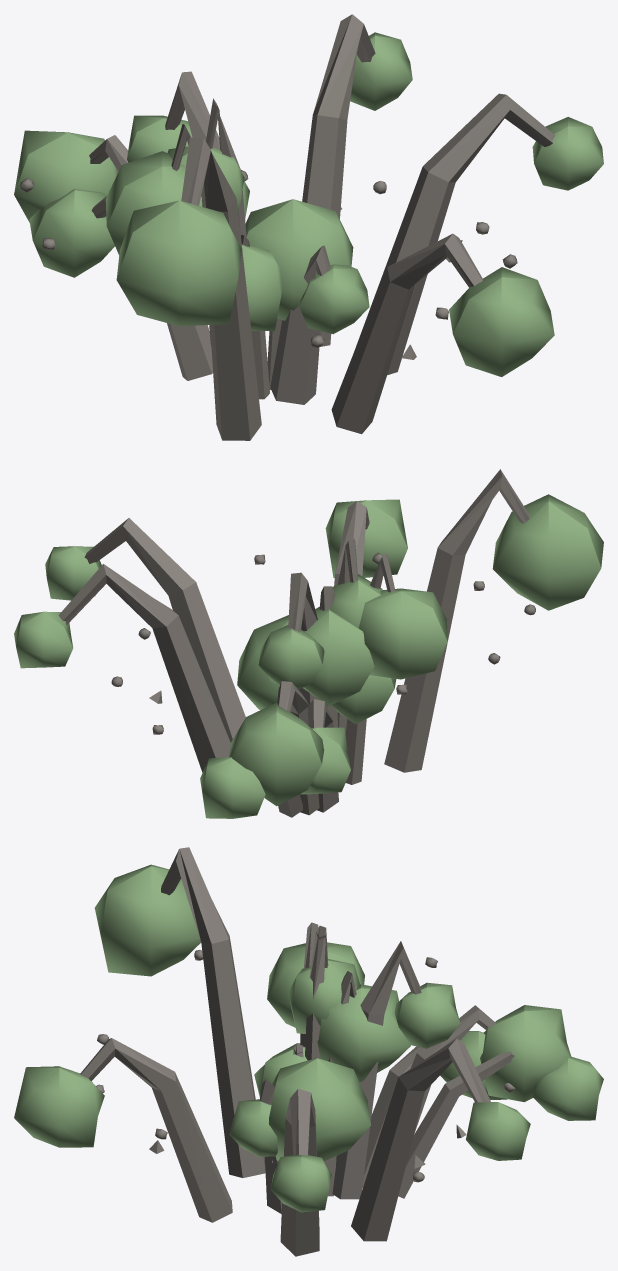
File: bramble-thicket.glb
3 views of the same model, one above another, from view 1: azimuth 30°, elevation 25°; view 2: azimuth 150°, elevation 25°; view 3: azimuth 270°, elevation 25° (orthographic). The views are drawn at different scales.
Parts seen in each view (by area): view 1: bramble-thicket; view 2: bramble-thicket; view 3: bramble-thicket.
Boxes of the visible parts, x1,y1,x2,y2 form: bramble-thicket: [14, 14, 603, 440]; bramble-thicket: [14, 469, 603, 818]; bramble-thicket: [14, 847, 603, 1256].
Bounding box in the file's own units: 2.97 × 1.72 × 3.08.
